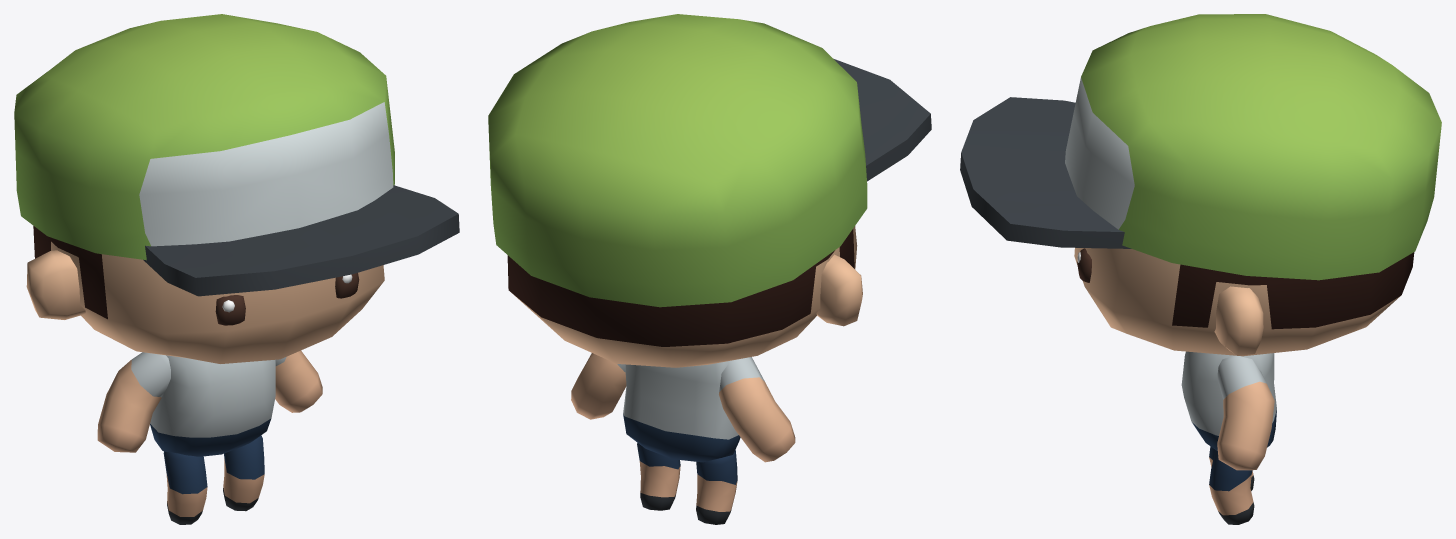
Rendered from idle_0032.obj.
3 views of the same model, side by side, from view 1: azimuth 30°, elevation 25°; view 2: azimuth 150°, elevation 25°; view 3: azimuth 270°, elevation 25° (orthographic).
Visible parts, largest first — view 1: Object_41, Object_42, Object_36, Object_44, Object_38; view 2: Object_41, Object_44, Object_36, Object_42; view 3: Object_41, Object_36, Object_42, Object_44.
Boxes of the visible parts, x1,y1,x2,y2 form: Object_41: [14, 14, 394, 260]; Object_42: [139, 102, 459, 296]; Object_36: [26, 226, 384, 363]; Object_44: [97, 350, 322, 524]; Object_38: [215, 273, 359, 325]; Object_41: [488, 14, 867, 307]; Object_44: [571, 353, 795, 524]; Object_36: [507, 226, 862, 367]; Object_42: [833, 58, 931, 181]; Object_41: [1081, 14, 1441, 280]; Object_36: [1074, 248, 1414, 356]; Object_42: [960, 77, 1134, 248]; Object_44: [1181, 351, 1276, 524].
Size of the model in its own units: 0.9691 by 1.22 by 1.14.
